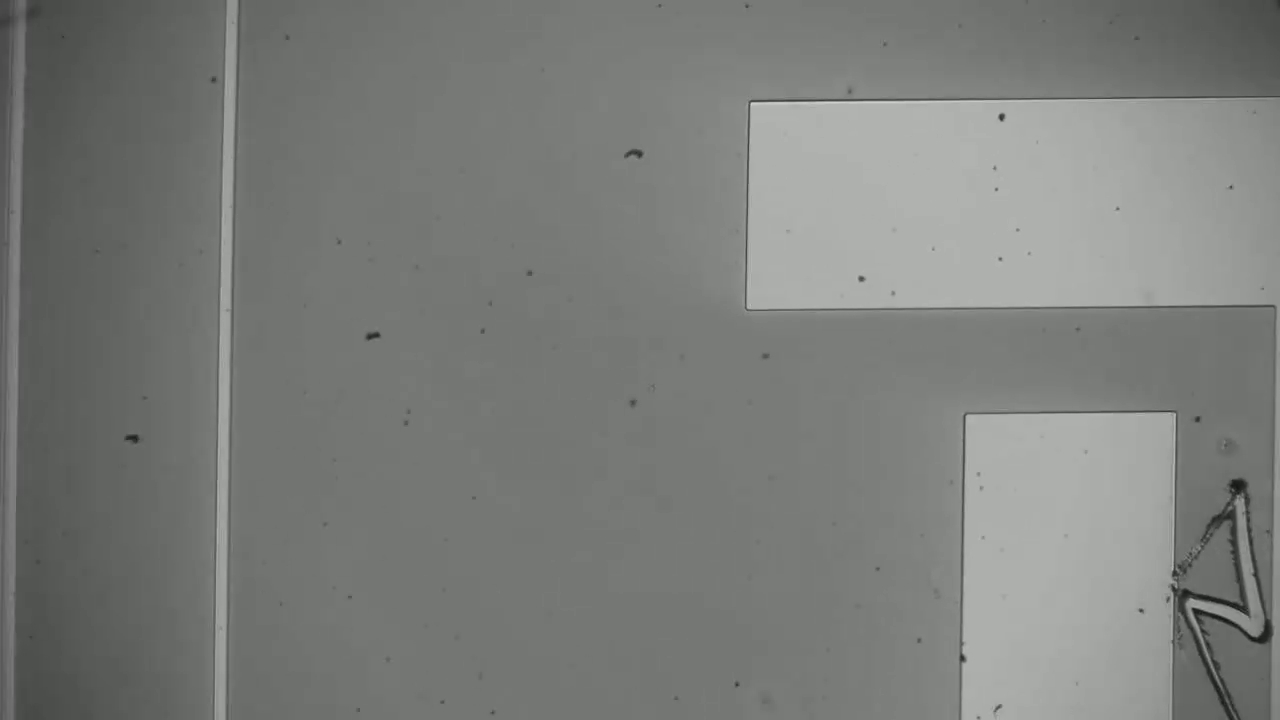Short_circuit: (1151, 568, 1277, 649)
